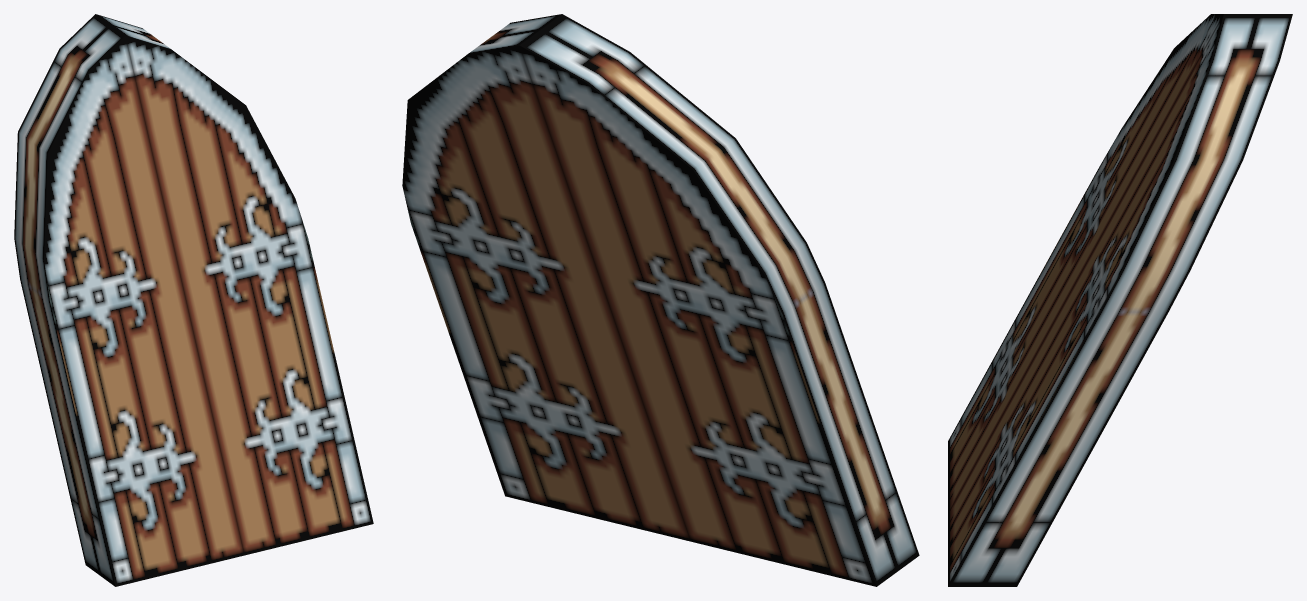
File: deco_cathedral_door_A.FBX
The picture shows the model from 3 angles, left to right: view 1: azimuth 30°, elevation 25°; view 2: azimuth 150°, elevation 25°; view 3: azimuth 270°, elevation 25°; orthographic projection. The views are drawn at different scales.
Parts seen in each view (by area): view 1: deco_cathedral_door_A; view 2: deco_cathedral_door_A; view 3: deco_cathedral_door_A.
Boxes of the visible parts, box(x1,y1,x2,y2) form: deco_cathedral_door_A: box(14, 14, 373, 586); deco_cathedral_door_A: box(402, 14, 919, 586); deco_cathedral_door_A: box(948, 14, 1292, 586).
Size of the model in its own units: 2 by 3.2 by 2.
Materials: 1 (1 with a texture image).
